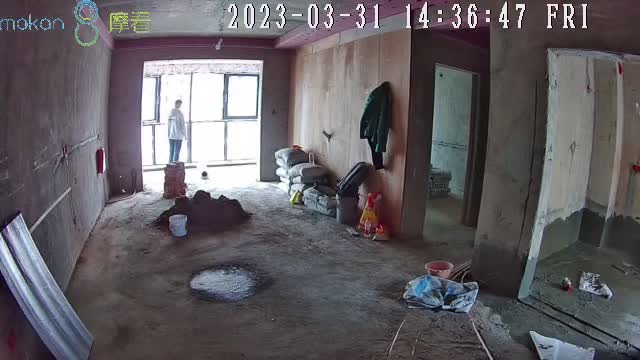people: (167, 99, 187, 166)
window: (141, 69, 255, 169)
